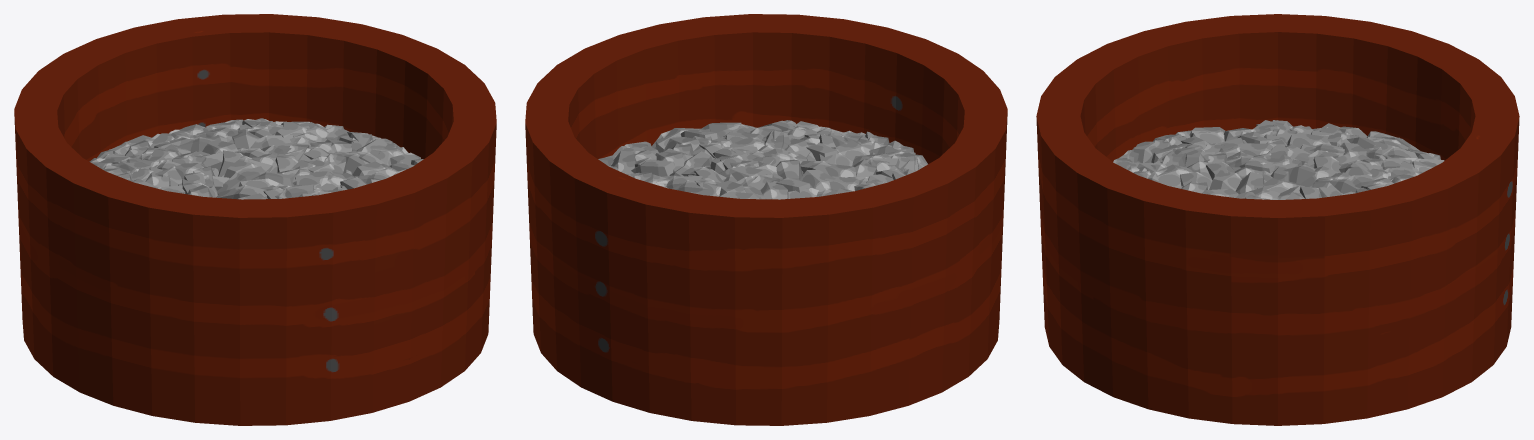
The model's file is stoneStorage.fbx.
3 renders of one model, left to right at view 1: azimuth 30°, elevation 25°; view 2: azimuth 150°, elevation 25°; view 3: azimuth 270°, elevation 25°, orthographic.
Visible parts, largest first — view 1: Container, Stone; view 2: Container, Stone; view 3: Container, Stone.
Boxes of the visible parts, bbox=[...] form: Container: bbox=[14, 14, 496, 425]; Stone: bbox=[89, 118, 423, 199]; Container: bbox=[525, 14, 1007, 425]; Stone: bbox=[598, 120, 927, 199]; Container: bbox=[1036, 14, 1519, 425]; Stone: bbox=[1113, 120, 1444, 199].
Bounding box in the file's own units: 270 × 130 × 270.
2 materials, 2 textured.
